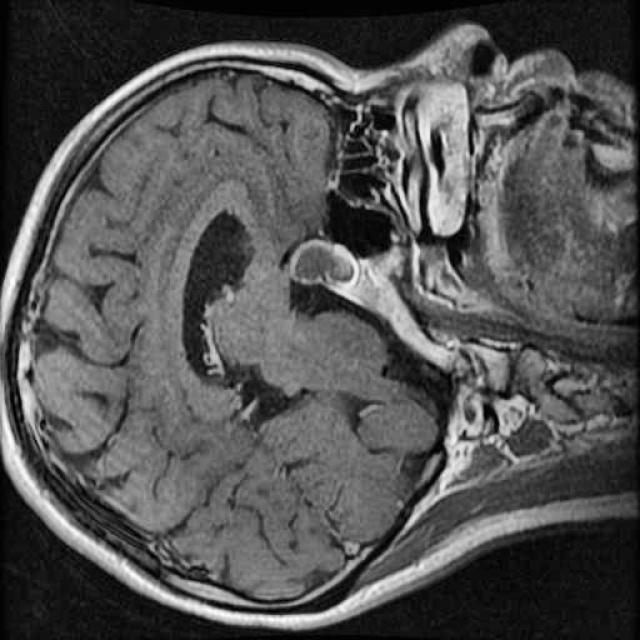Tumor: (282, 229, 365, 299)
